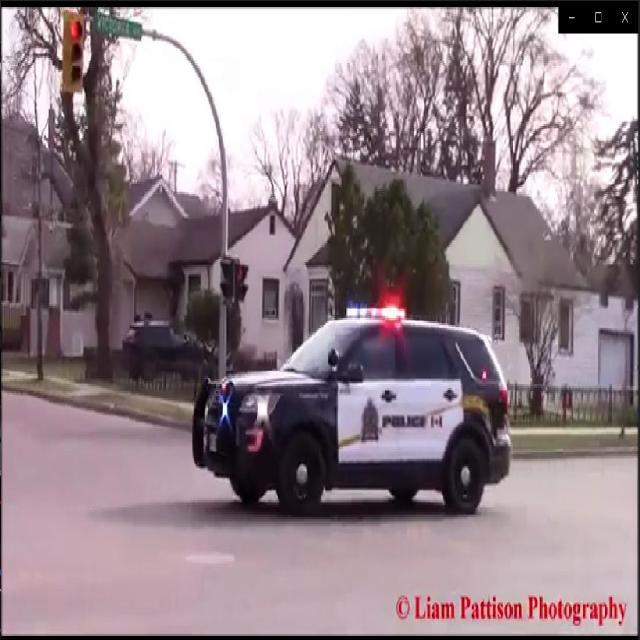emergency: (191, 293, 513, 511)
